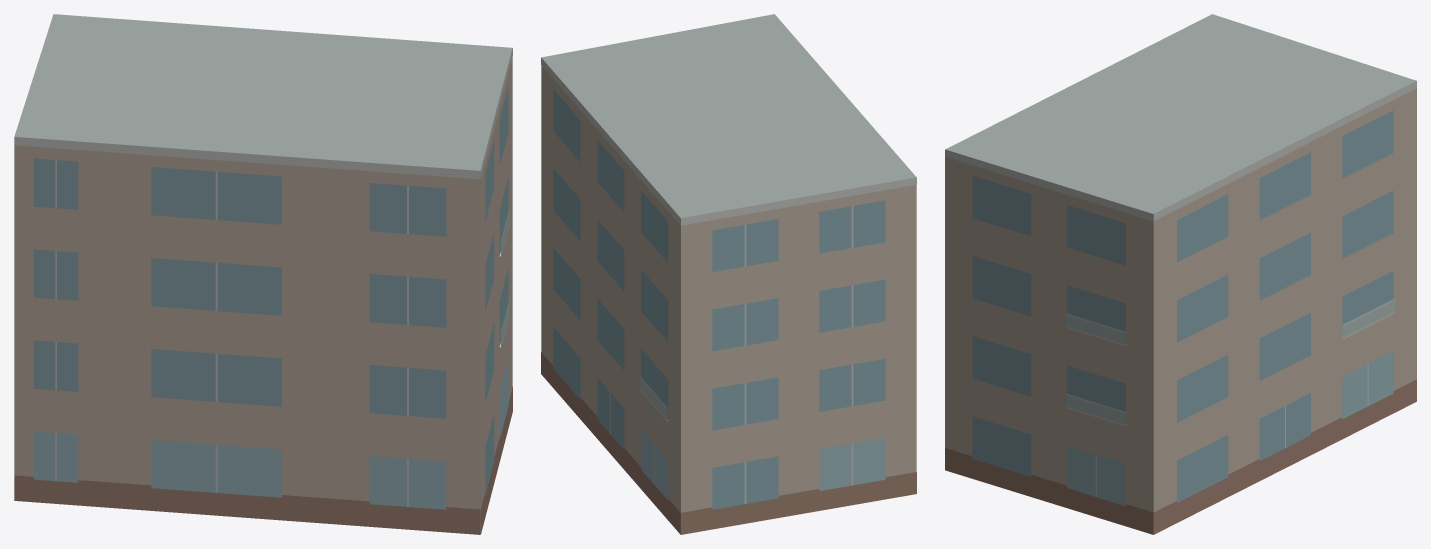
The model's file is survey-upis-32807330.glb.
The picture shows the model from 3 angles, left to right: view 1: azimuth 30°, elevation 25°; view 2: azimuth 150°, elevation 25°; view 3: azimuth 270°, elevation 25°; orthographic projection. The views are drawn at different scales.
Visible parts, largest first — view 1: survey-upis-32807330.tmp; view 2: survey-upis-32807330.tmp; view 3: survey-upis-32807330.tmp.
Boxes of the visible parts, x1,y1,x2,y2 form: survey-upis-32807330.tmp: (14,14,512,534); survey-upis-32807330.tmp: (541,14,916,534); survey-upis-32807330.tmp: (945,14,1416,534).
Bounding box in the file's own units: 13.98 × 10.45 × 13.93.
